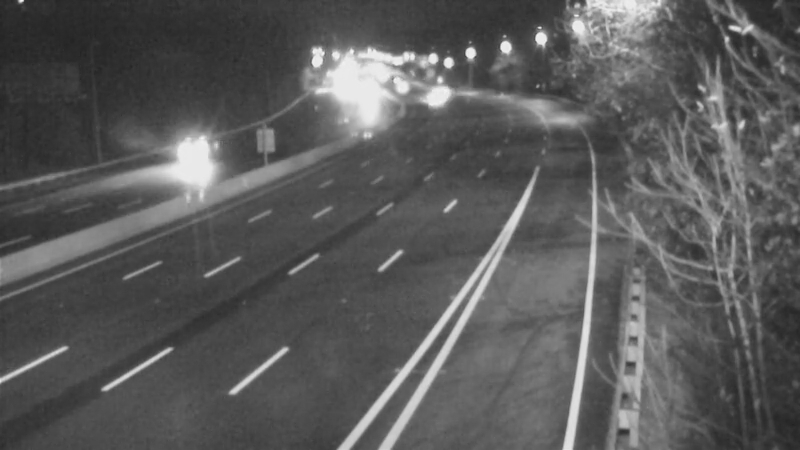vehicle: (159, 120, 239, 200), (373, 60, 423, 110), (408, 74, 458, 124)
